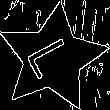L_NE: (23, 33, 82, 84)
